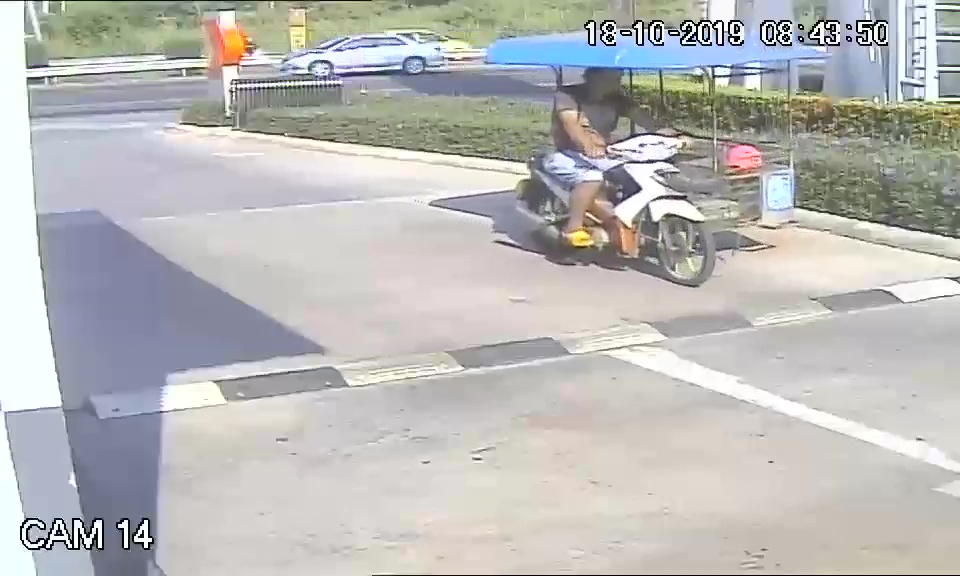motorcycle: (508, 134, 719, 289)
